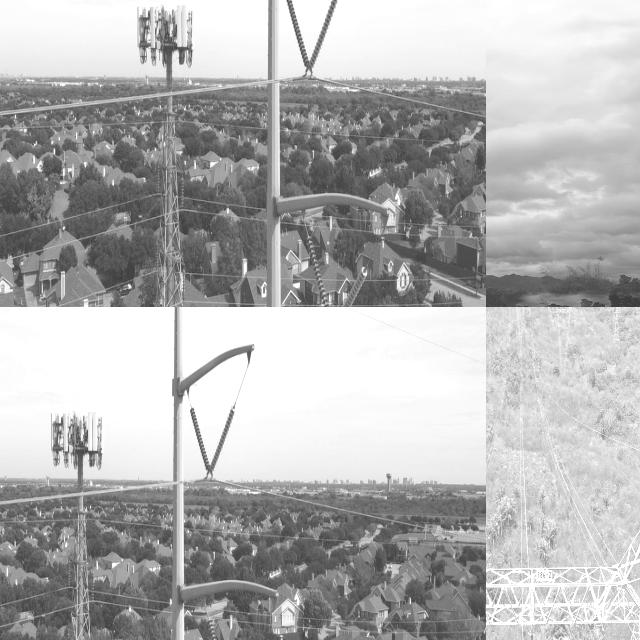杆塔: (486, 452, 640, 640), (47, 402, 111, 640), (143, 77, 199, 307)
正常电缆: (348, 70, 486, 131)
正常绝缘子: (282, 0, 343, 80), (205, 404, 238, 482), (301, 230, 334, 307), (188, 401, 213, 475), (339, 262, 372, 307), (206, 616, 219, 640)
